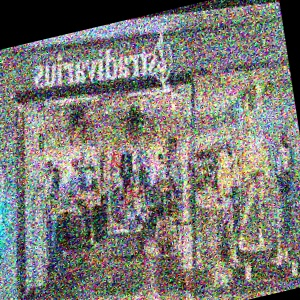stradivarius: (148, 1, 209, 18)
